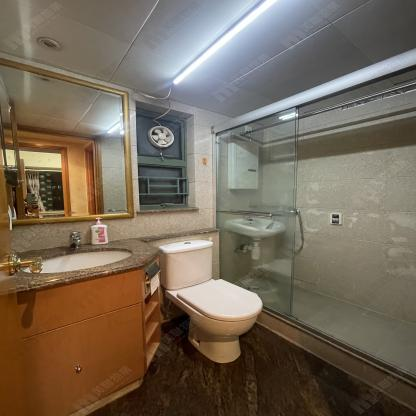Faucet: (67, 230, 84, 249)
Toilet: (156, 240, 264, 362)
Toilet Sink: (14, 238, 162, 290)
Water Cubicle: (210, 50, 416, 412)
